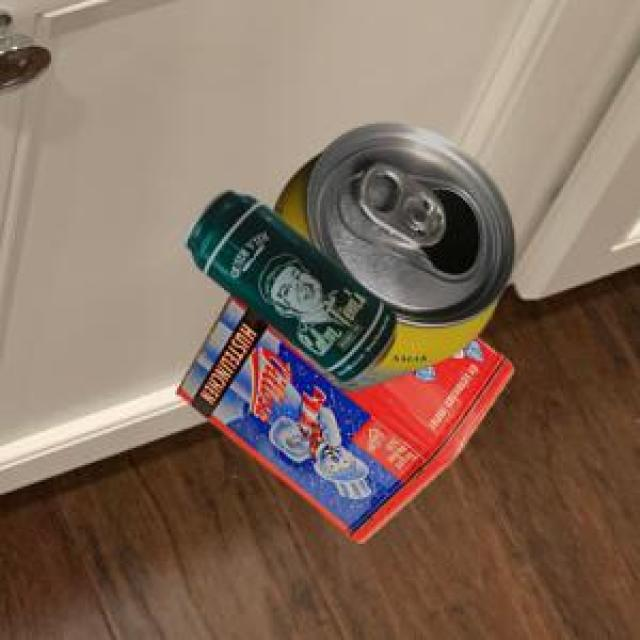logam: (174, 291, 511, 539), (270, 121, 511, 389), (182, 187, 394, 379)
